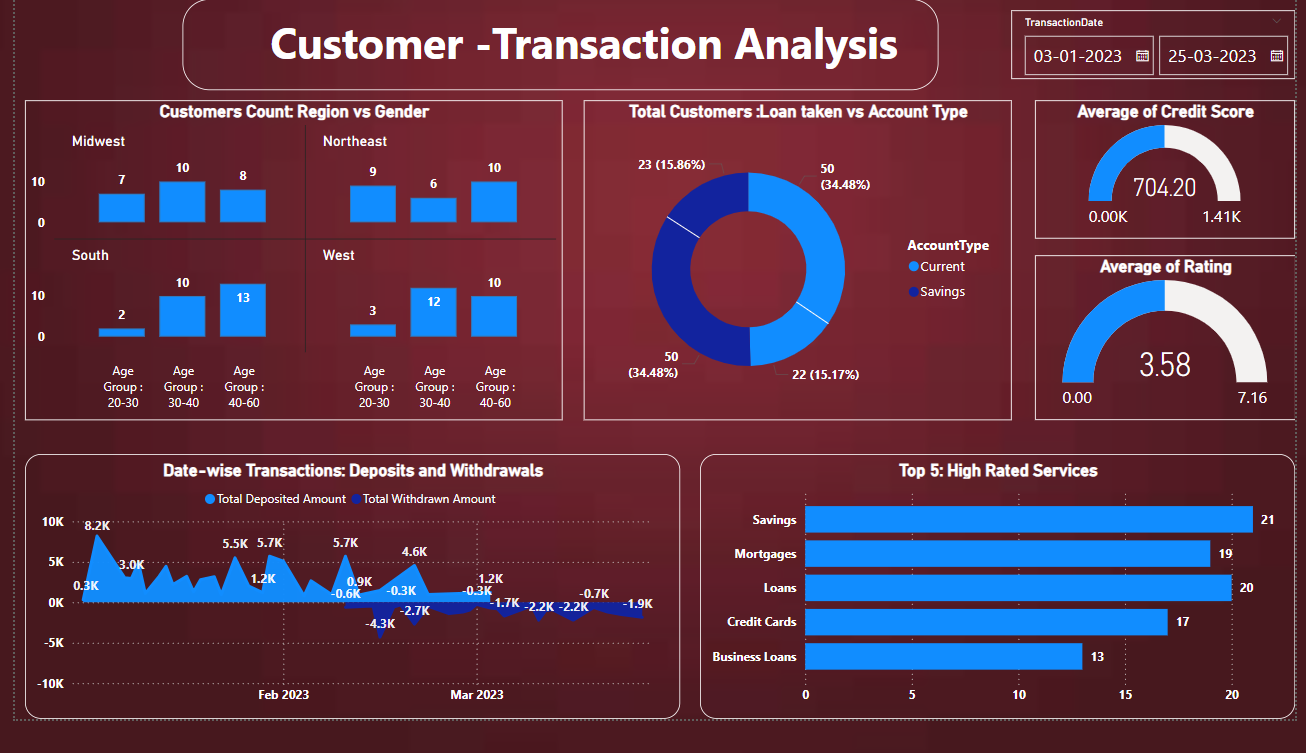

Layout of this report page (visuals, bound fields, positions):
{"tool":"powerbi","page":{"name":"Customer analysis","canvas":[1280,720],"ordinal":2},"visuals":[{"type":"columnChart","title":"Customers Count: Region vs Gender","fields":{"Category":["Customer Table.Age Group"],"Rows":["Customer Table.Region"],"Y":["CountNonNull(Customer Table.Gender)"]},"box":[10.5,101.2,537.2,319.8],"z":0},{"type":"donutChart","title":"Total Customers :Loan taken vs Account Type","fields":{"Category":["Bank Accounts.AccountType"],"Y":["CountNonNull(Bank Accounts.Total Customers)","CountNonNull(Loan Accounts.Total Count of Loan taken Accounts)"]},"box":[568.6,101.2,427.9,319.8],"z":1000},{"type":"gauge","fields":{"Y":["Avg(Customer Feedback.Rating)"]},"box":[1019.8,255.8,260.5,165.1],"z":2000},{"type":"clusteredBarChart","title":"Top 5 Services by Rating Count","fields":{"Category":["Customer Feedback.ServiceType"],"Y":["CountNonNull(Customer Feedback.Rating)"]},"box":[684.9,454.7,595.4,265.1],"z":3000},{"type":"gauge","fields":{"Y":["Avg(Customer Table.Credit Score)"]},"box":[1020,101.2,260,138.8],"z":4000},{"type":"lineChart","title":"Date-wise Transactions: Deposits and Withdrawals","fields":{"Category":["Transactions Table.TransactionDate"],"Y":["Transactions Table.Total Deposited Amount","Transactions Table.Total Withdrawn Amount"]},"box":[10,455,655,265],"z":5000},{"type":"textbox","box":[167.5,0,756.2,91.2],"z":6000},{"type":"slicer","title":"Transactions Date","fields":{"Values":["Transactions Table.TransactionDate"]},"box":[996.2,11.2,283.8,68.8],"z":7000}]}

Visuals, with their boxes in screenshot pixels (x1, y1, x2, y2), scaled from the page's 1280x720 canvas onto the 1306x753 screenshot:
"Customers Count: Region vs Gender" columnChart: box=[11, 106, 559, 440]
"Total Customers :Loan taken vs Account Type" donutChart: box=[580, 106, 1017, 440]
gauge - Avg(Customer Feedback.Rating): box=[1041, 268, 1305, 440]
"Top 5 Services by Rating Count" clusteredBarChart: box=[699, 476, 1305, 752]
gauge - Avg(Customer Table.Credit Score): box=[1041, 106, 1305, 251]
"Date-wise Transactions: Deposits and Withdrawals" lineChart: box=[10, 476, 679, 752]
textbox: box=[171, 0, 942, 95]
"Transactions Date" slicer: box=[1016, 12, 1305, 84]
